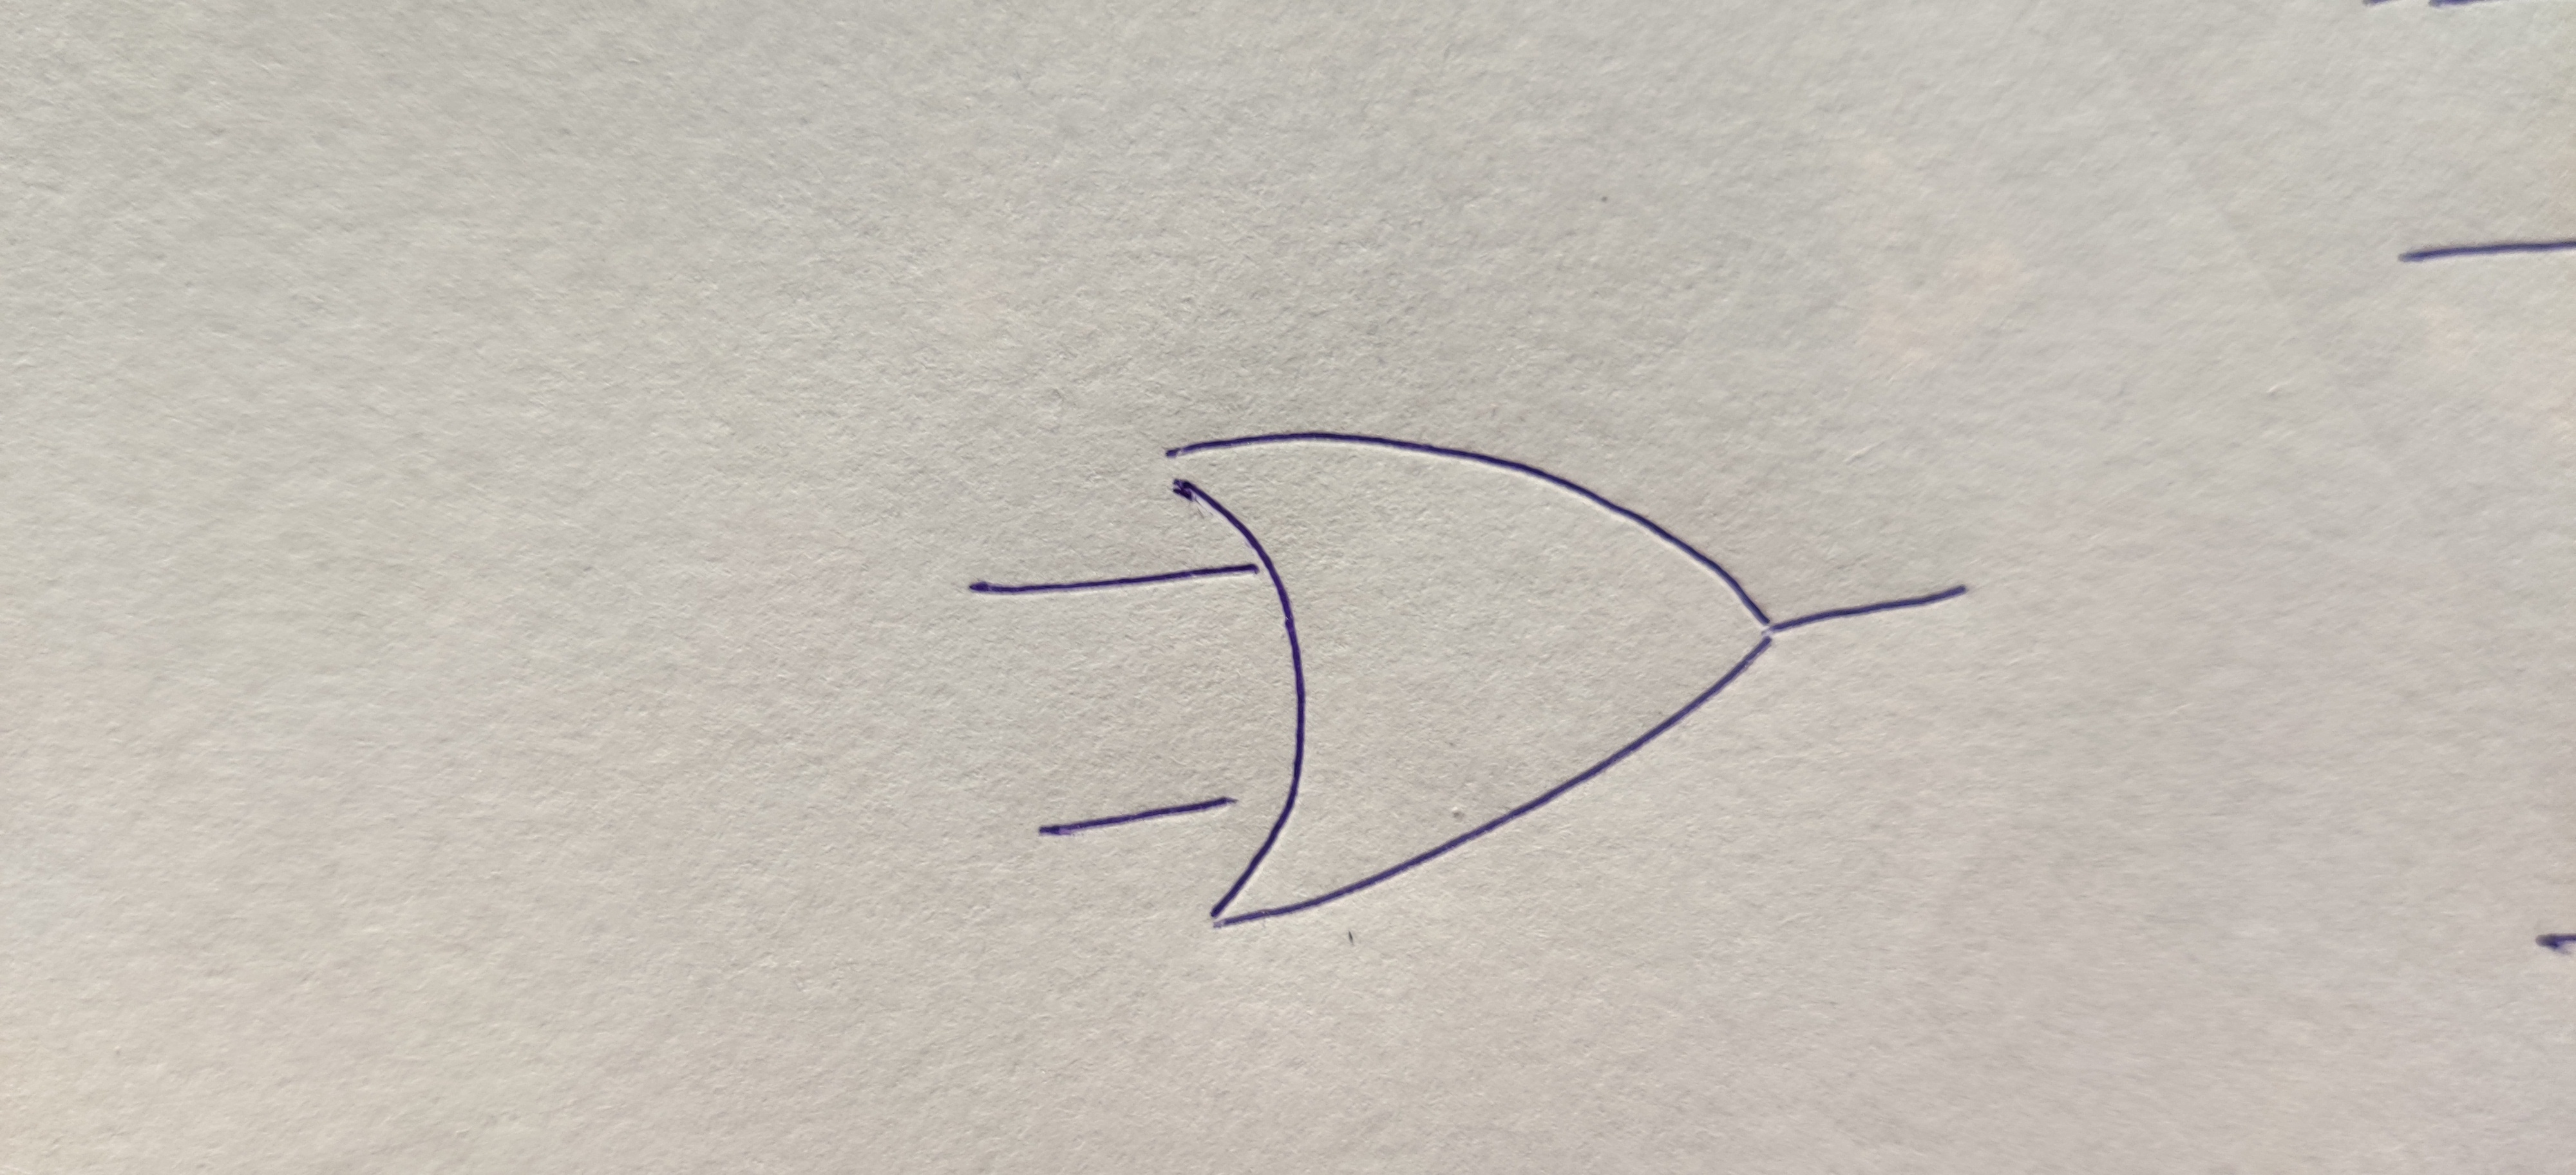or: (1170, 427, 1769, 930)
